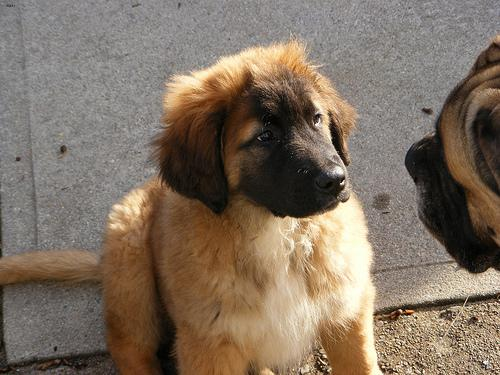dog-leonberger: (158, 43, 351, 216)
